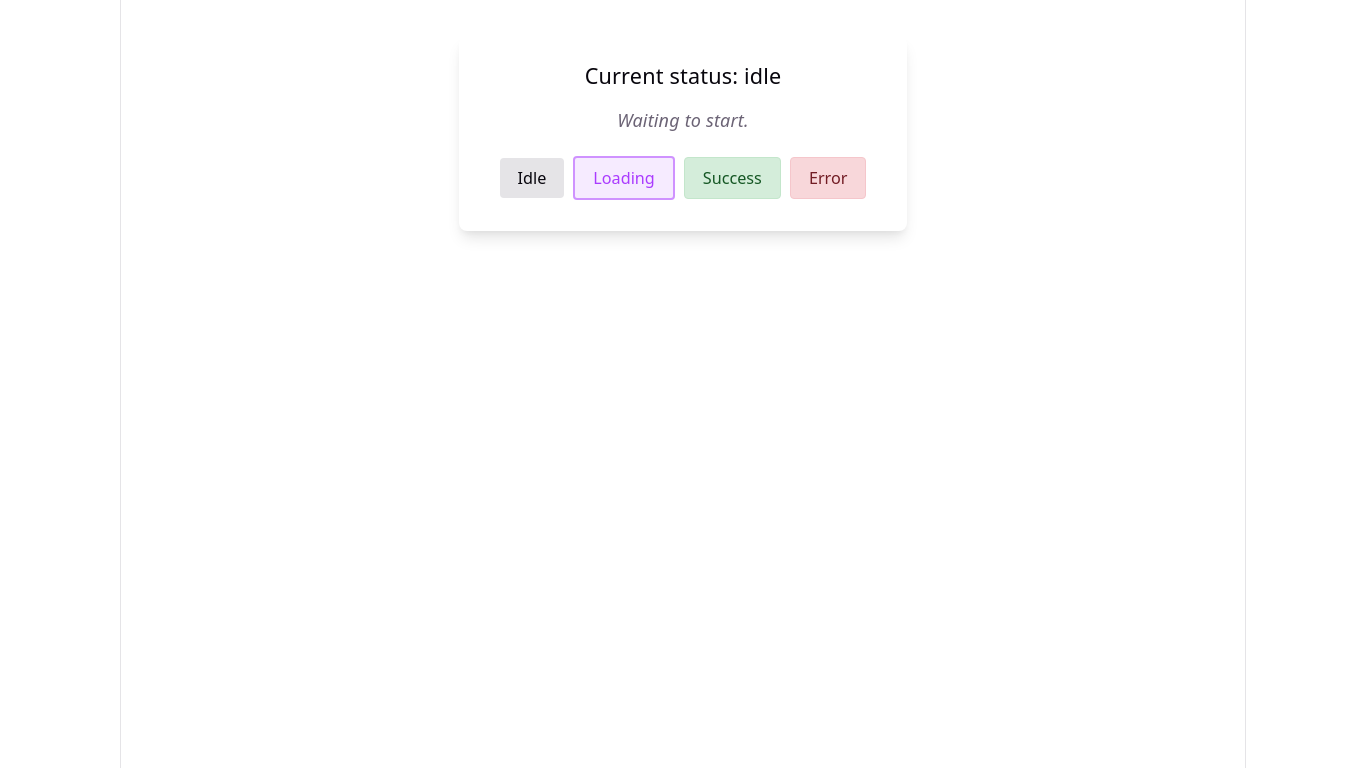
Test case: status message testing › clicking Loading shows loading message
Click the button "Loading". click: (624, 178)
box: [573,156,675,200]
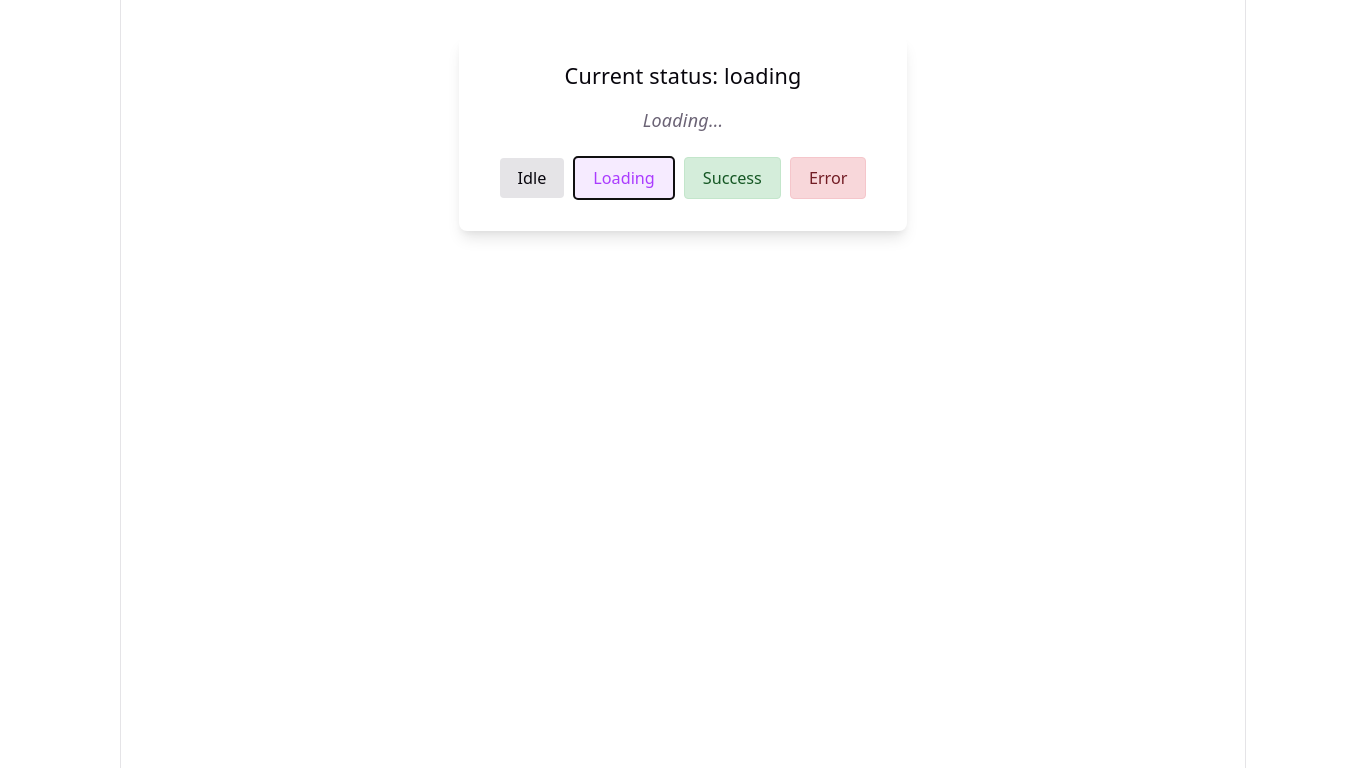
Expected: the text "Loading..." is shown, [643,108,723,132]
